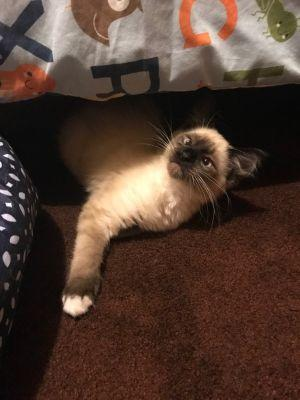siamese: (156, 104, 261, 205)
